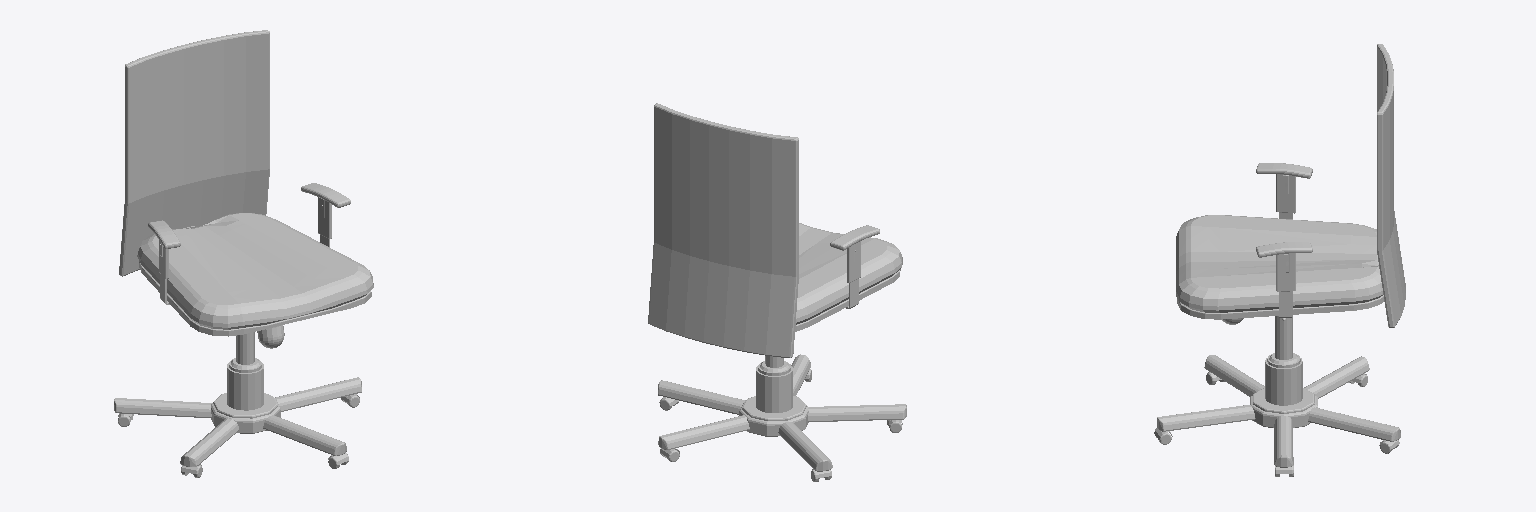
The model's file is Office_Chair.obj.
3 renders of one model, left to right at view 1: azimuth 30°, elevation 25°; view 2: azimuth 150°, elevation 25°; view 3: azimuth 270°, elevation 25°, orthographic.
Parts seen in each view (by area): view 1: Office_Chiar; view 2: Office_Chiar; view 3: Office_Chiar.
Boxes of the visible parts, <box> form: Office_Chiar: <box>114,30,373,477</box>; Office_Chiar: <box>648,103,906,481</box>; Office_Chiar: <box>1154,44,1405,476</box>.
Size of the model in its own units: 2.9 by 4.54 by 2.98.